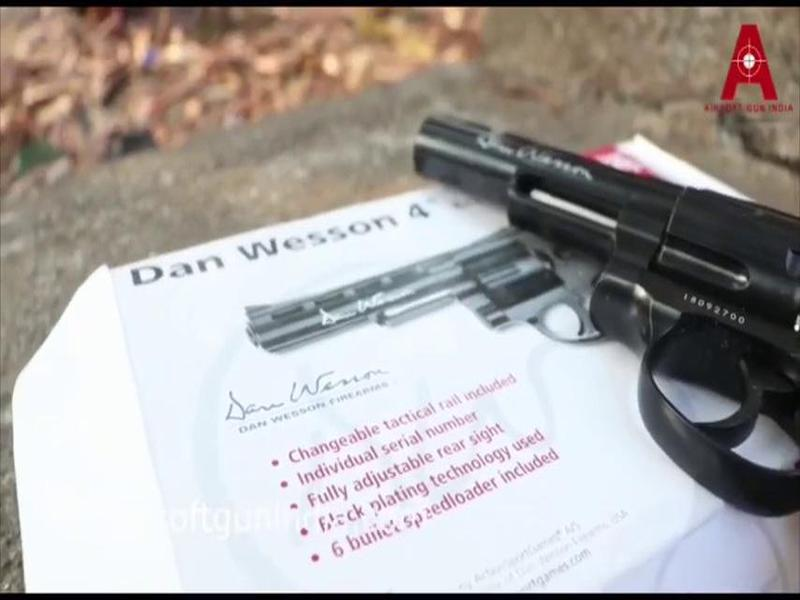Revolver: (397, 80, 800, 514)
